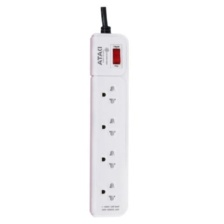three_eye_plug: (87, 27, 134, 217)
